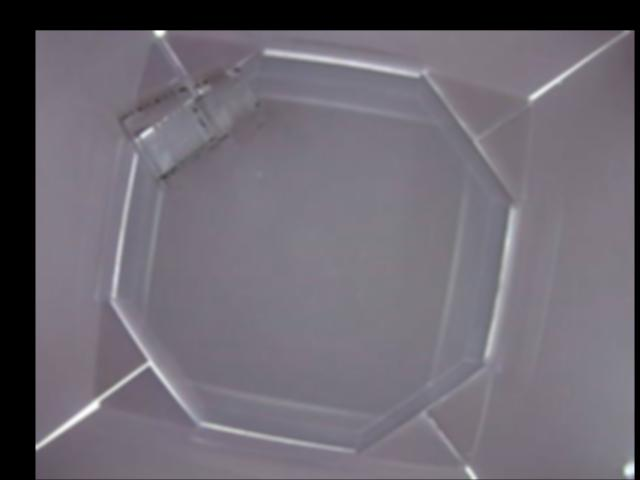Cup: (114, 63, 260, 176)
